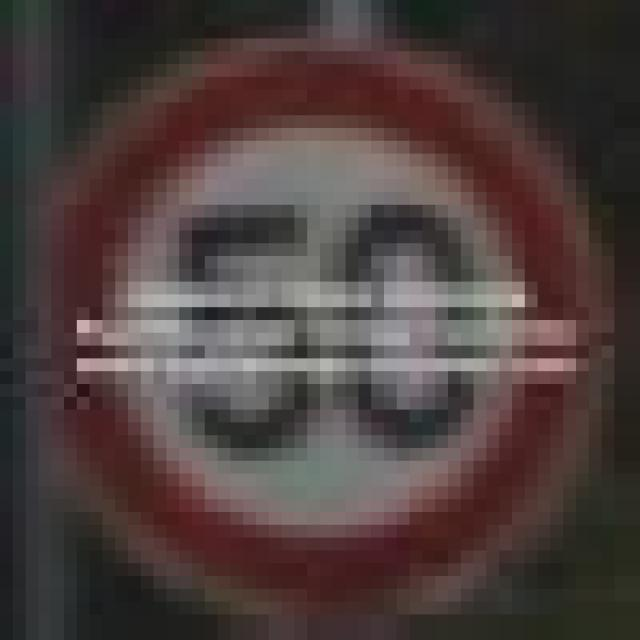SPEED_LIMIT_50: (26, 39, 588, 602)
